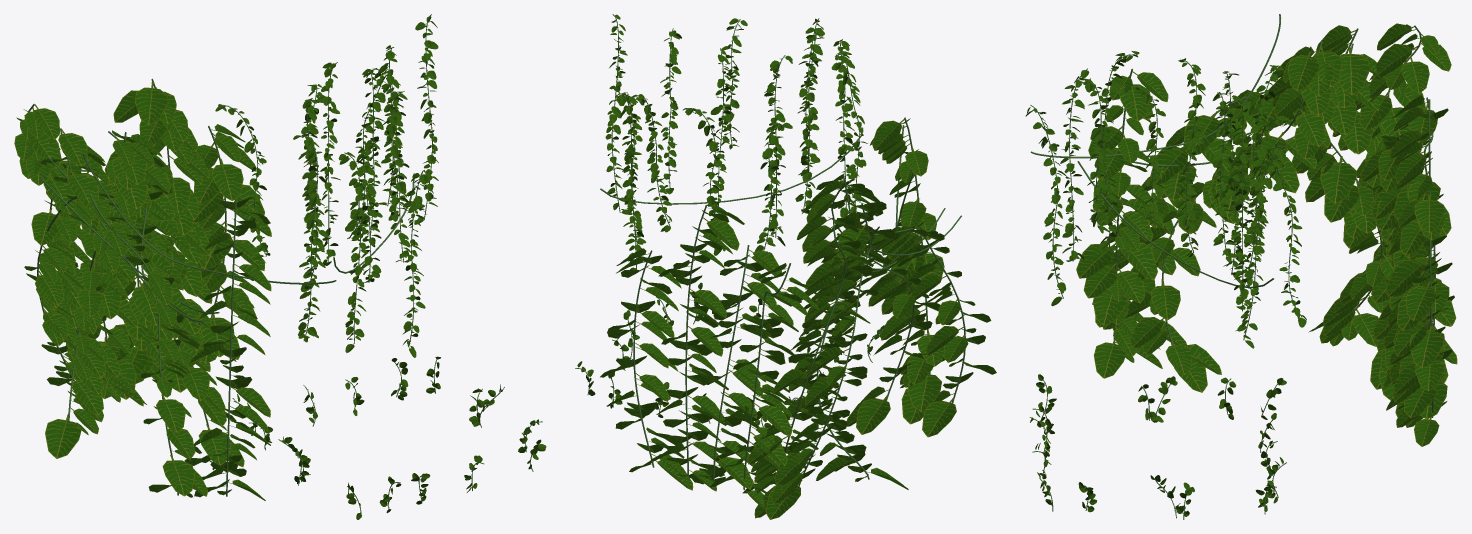
File: Foliage.fbx
3 renders of one model, left to right at view 1: azimuth 30°, elevation 25°; view 2: azimuth 150°, elevation 25°; view 3: azimuth 270°, elevation 25°, orthographic. The views are drawn at different scales.
Visible parts, largest first — view 1: Foliage; view 2: Foliage; view 3: Foliage.
Boxes of the visible parts, <box> form: Foliage: <box>14,14,546,519</box>; Foliage: <box>575,14,996,519</box>; Foliage: <box>1025,14,1457,519</box>.
Size of the model in its own units: 512 by 513 by 494.
